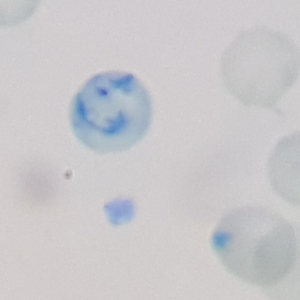aggregate reticulocyte: (66, 68, 155, 158)
erythrocyte: (208, 200, 300, 287), (218, 24, 300, 110)
